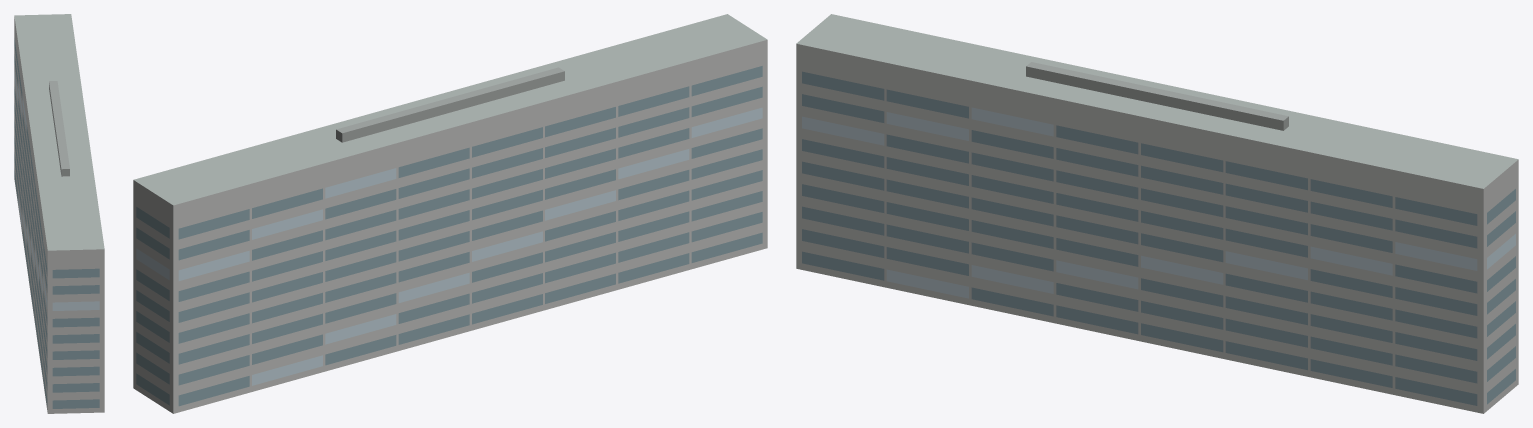
Rendered from fallback-olympic-athletes-village-305.glb.
The picture shows the model from 3 angles, left to right: view 1: azimuth 30°, elevation 25°; view 2: azimuth 150°, elevation 25°; view 3: azimuth 270°, elevation 25°; orthographic projection. The views are drawn at different scales.
Visible parts, largest first — view 1: fallback-olympic-athletes-village-305; view 2: fallback-olympic-athletes-village-305; view 3: fallback-olympic-athletes-village-305.
Boxes of the visible parts, x1,y1,x2,y2 form: fallback-olympic-athletes-village-305: [14, 14, 104, 413]; fallback-olympic-athletes-village-305: [133, 14, 767, 413]; fallback-olympic-athletes-village-305: [796, 14, 1518, 413].
Size of the model in its own units: 50.87 by 31.87 by 88.78.
